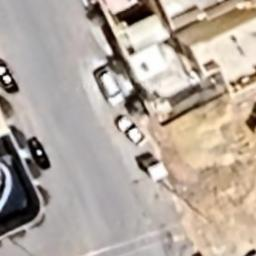SUV: (91, 63, 125, 107)
sedan: (24, 132, 58, 172), (112, 112, 149, 148), (0, 58, 20, 94)
